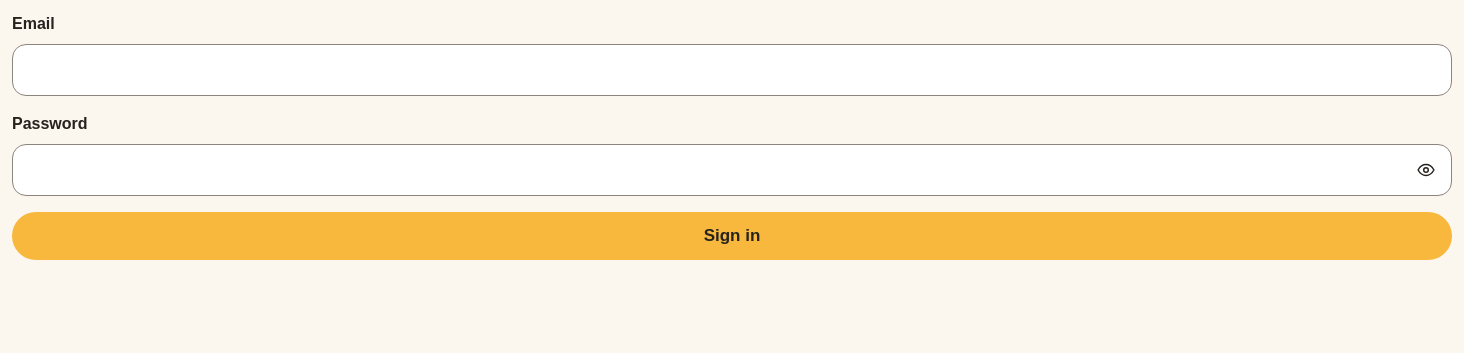
Scenario: LoginForm › a tooManyAttempts refusal shows its notice, keeps the email and clears the password
The width and height of the screenshot is (1464, 353).
Type "mira@example.com" into the field labelled "Email" at [732, 70], box [12, 44, 1452, 96]
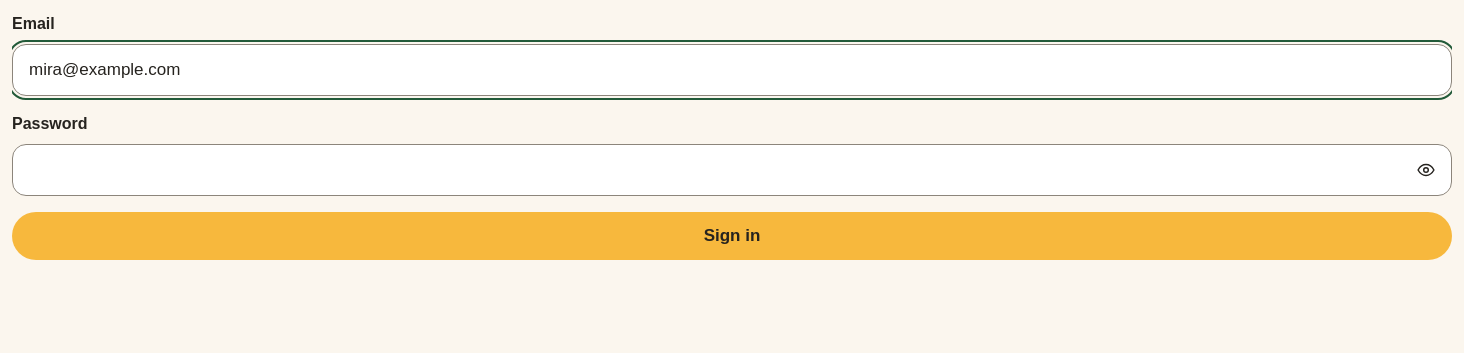
Type "not-the-password" into the password field labelled "Password" at [732, 170], box [12, 144, 1452, 196]
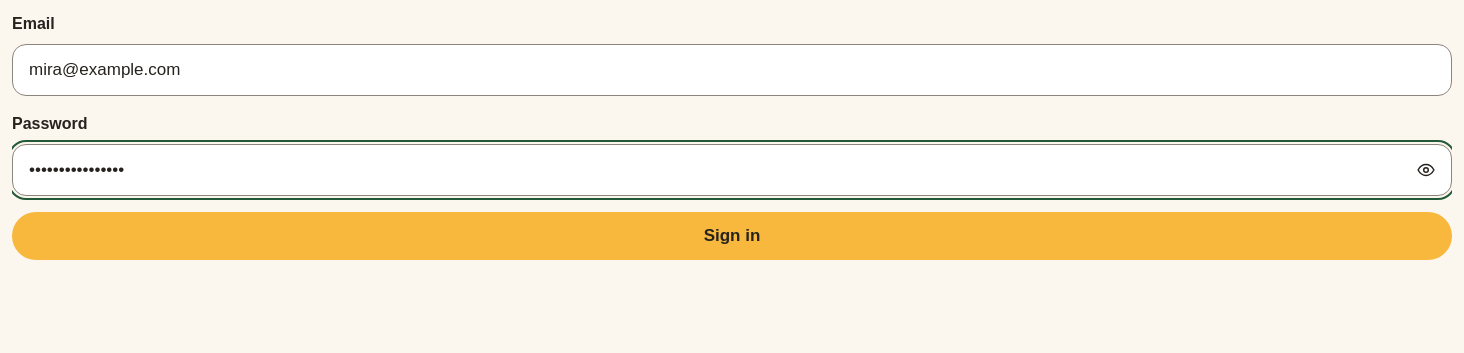
Click the button "Sign in" at [732, 236], box [12, 212, 1452, 260]
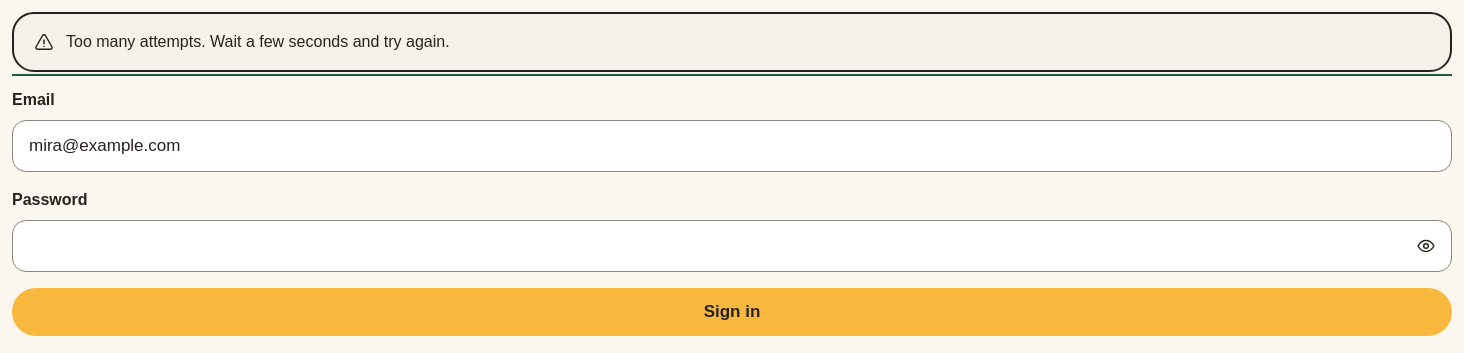
Result: the text "Too many attempts. Wait a few seconds and try again." is shown at [66, 33, 450, 50]
Result: the password field labelled "Password" is empty at [12, 220, 1452, 272]
